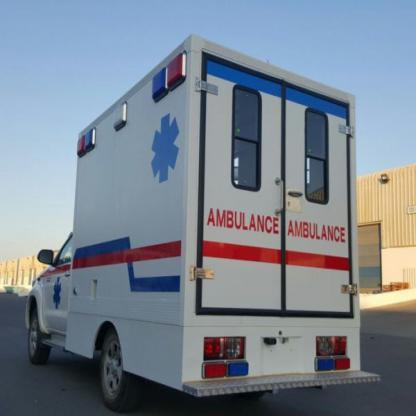Ambulance - v1 Ambulance last generate: (27, 28, 382, 416)
